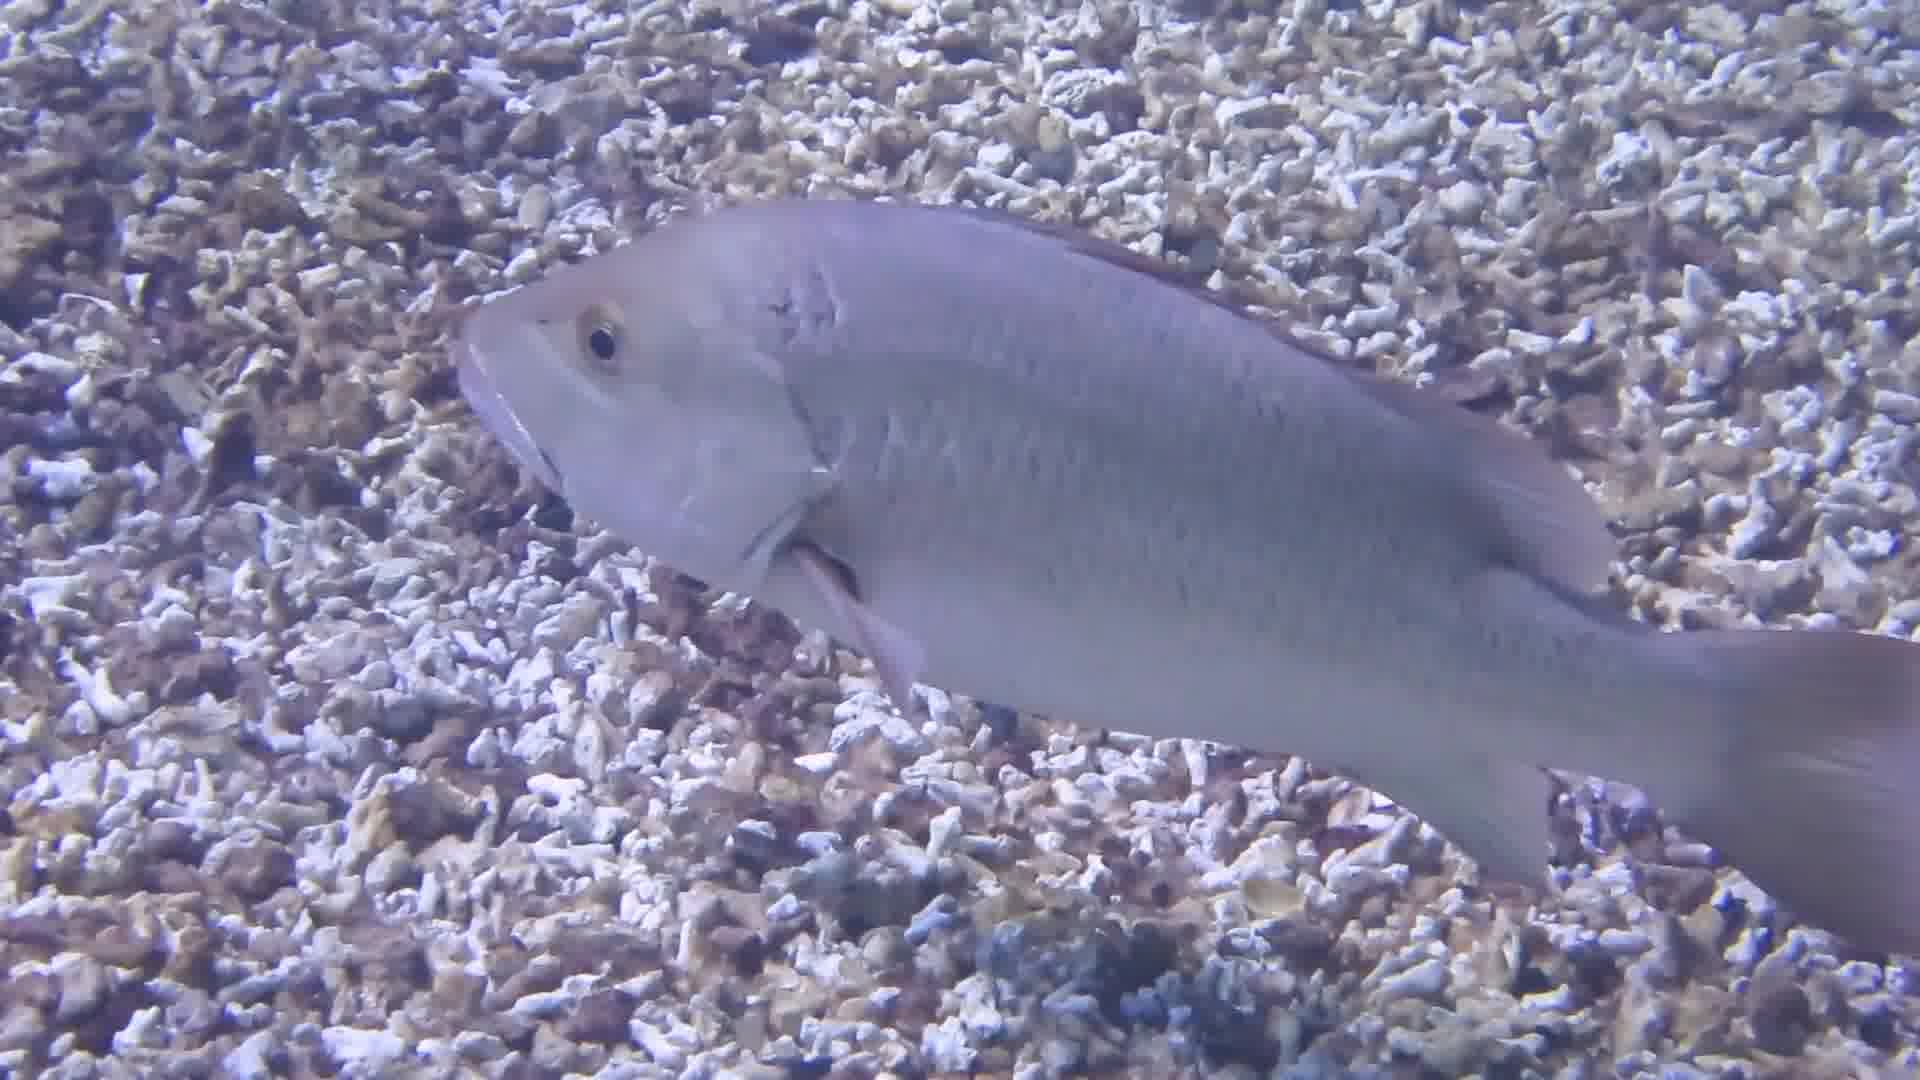Lutjanus argentimaculatus: (443, 189, 1883, 923)
